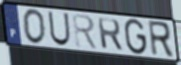G: (124, 18, 148, 57)
O: (21, 8, 47, 46)
R: (71, 12, 100, 52), (147, 20, 176, 60), (96, 17, 124, 53)
U: (47, 10, 72, 47)
